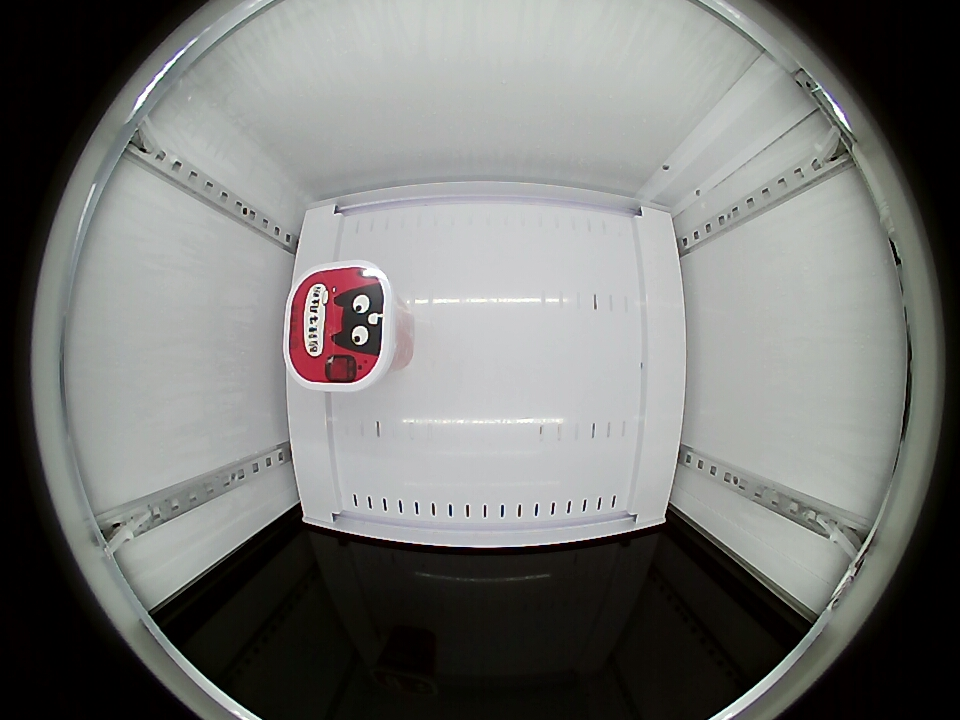niudufen: (287, 261, 398, 390)
